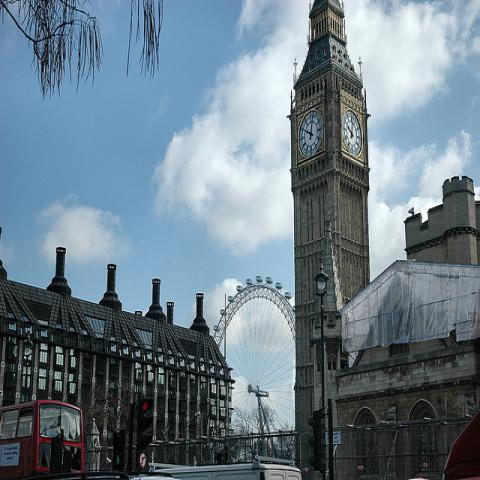bus: (0, 401, 84, 474)
